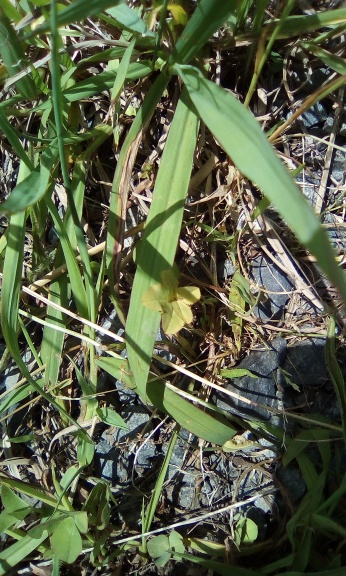4leaf: (139, 269, 202, 335)
